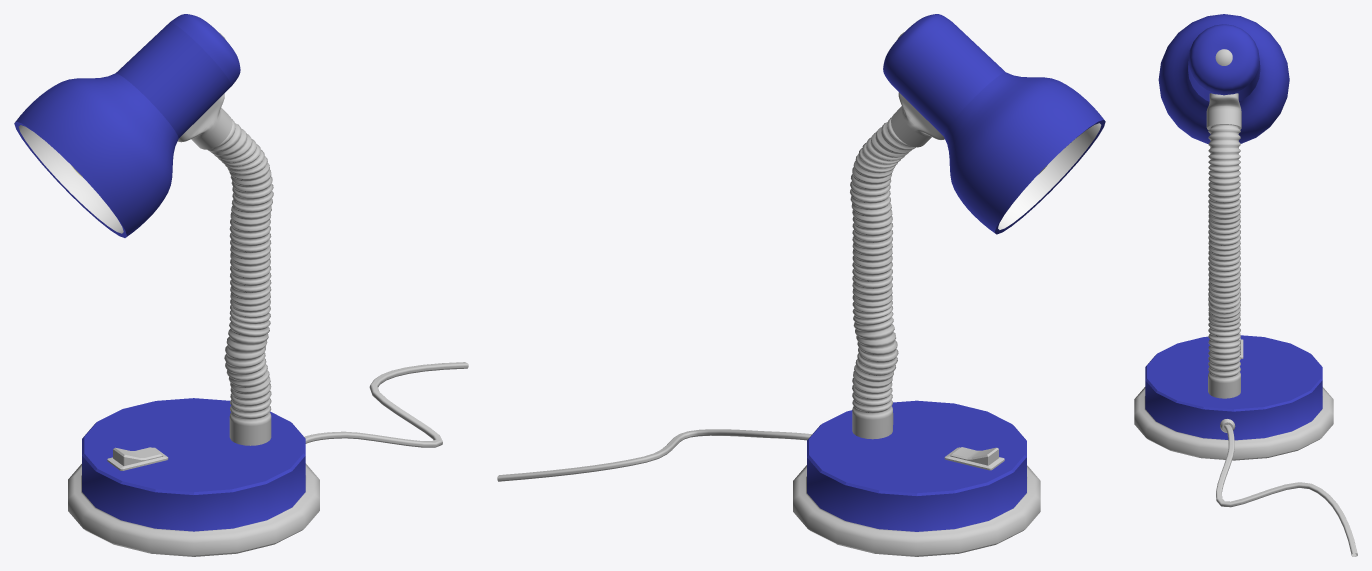
File: Table_lamp.obj
The picture shows the model from 3 angles, left to right: view 1: azimuth 30°, elevation 25°; view 2: azimuth 150°, elevation 25°; view 3: azimuth 270°, elevation 25°; orthographic projection. The views are drawn at different scales.
Visible parts, largest first — view 1: Table lamp04, Table lamp01, Table lamp06, Table lamp08, Table lamp03, Table lamp05; view 2: Table lamp04, Table lamp01, Table lamp06, Table lamp08, Table lamp03, Table lamp05; view 3: Table lamp04, Table lamp01, Table lamp06, Table lamp08, Table lamp03.
Part boxes in pixels (<box>): Table lamp04: <box>68,398,319,556</box>; Table lamp01: <box>14,14,240,237</box>; Table lamp06: <box>207,119,273,445</box>; Table lamp08: <box>304,362,468,447</box>; Table lamp03: <box>177,93,232,149</box>; Table lamp05: <box>107,447,168,470</box>; Table lamp04: <box>793,400,1040,556</box>; Table lamp01: <box>883,14,1105,234</box>; Table lamp06: <box>850,117,915,439</box>; Table lamp08: <box>497,429,811,481</box>; Table lamp03: <box>891,92,944,147</box>; Table lamp05: <box>944,447,1004,470</box>; Table lamp04: <box>1134,335,1333,460</box>; Table lamp01: <box>1158,14,1289,144</box>; Table lamp06: <box>1208,124,1240,398</box>; Table lamp08: <box>1216,424,1357,556</box>; Table lamp03: <box>1206,93,1241,130</box>.
Bounding box in the file's own units: 993 × 910 × 468.
